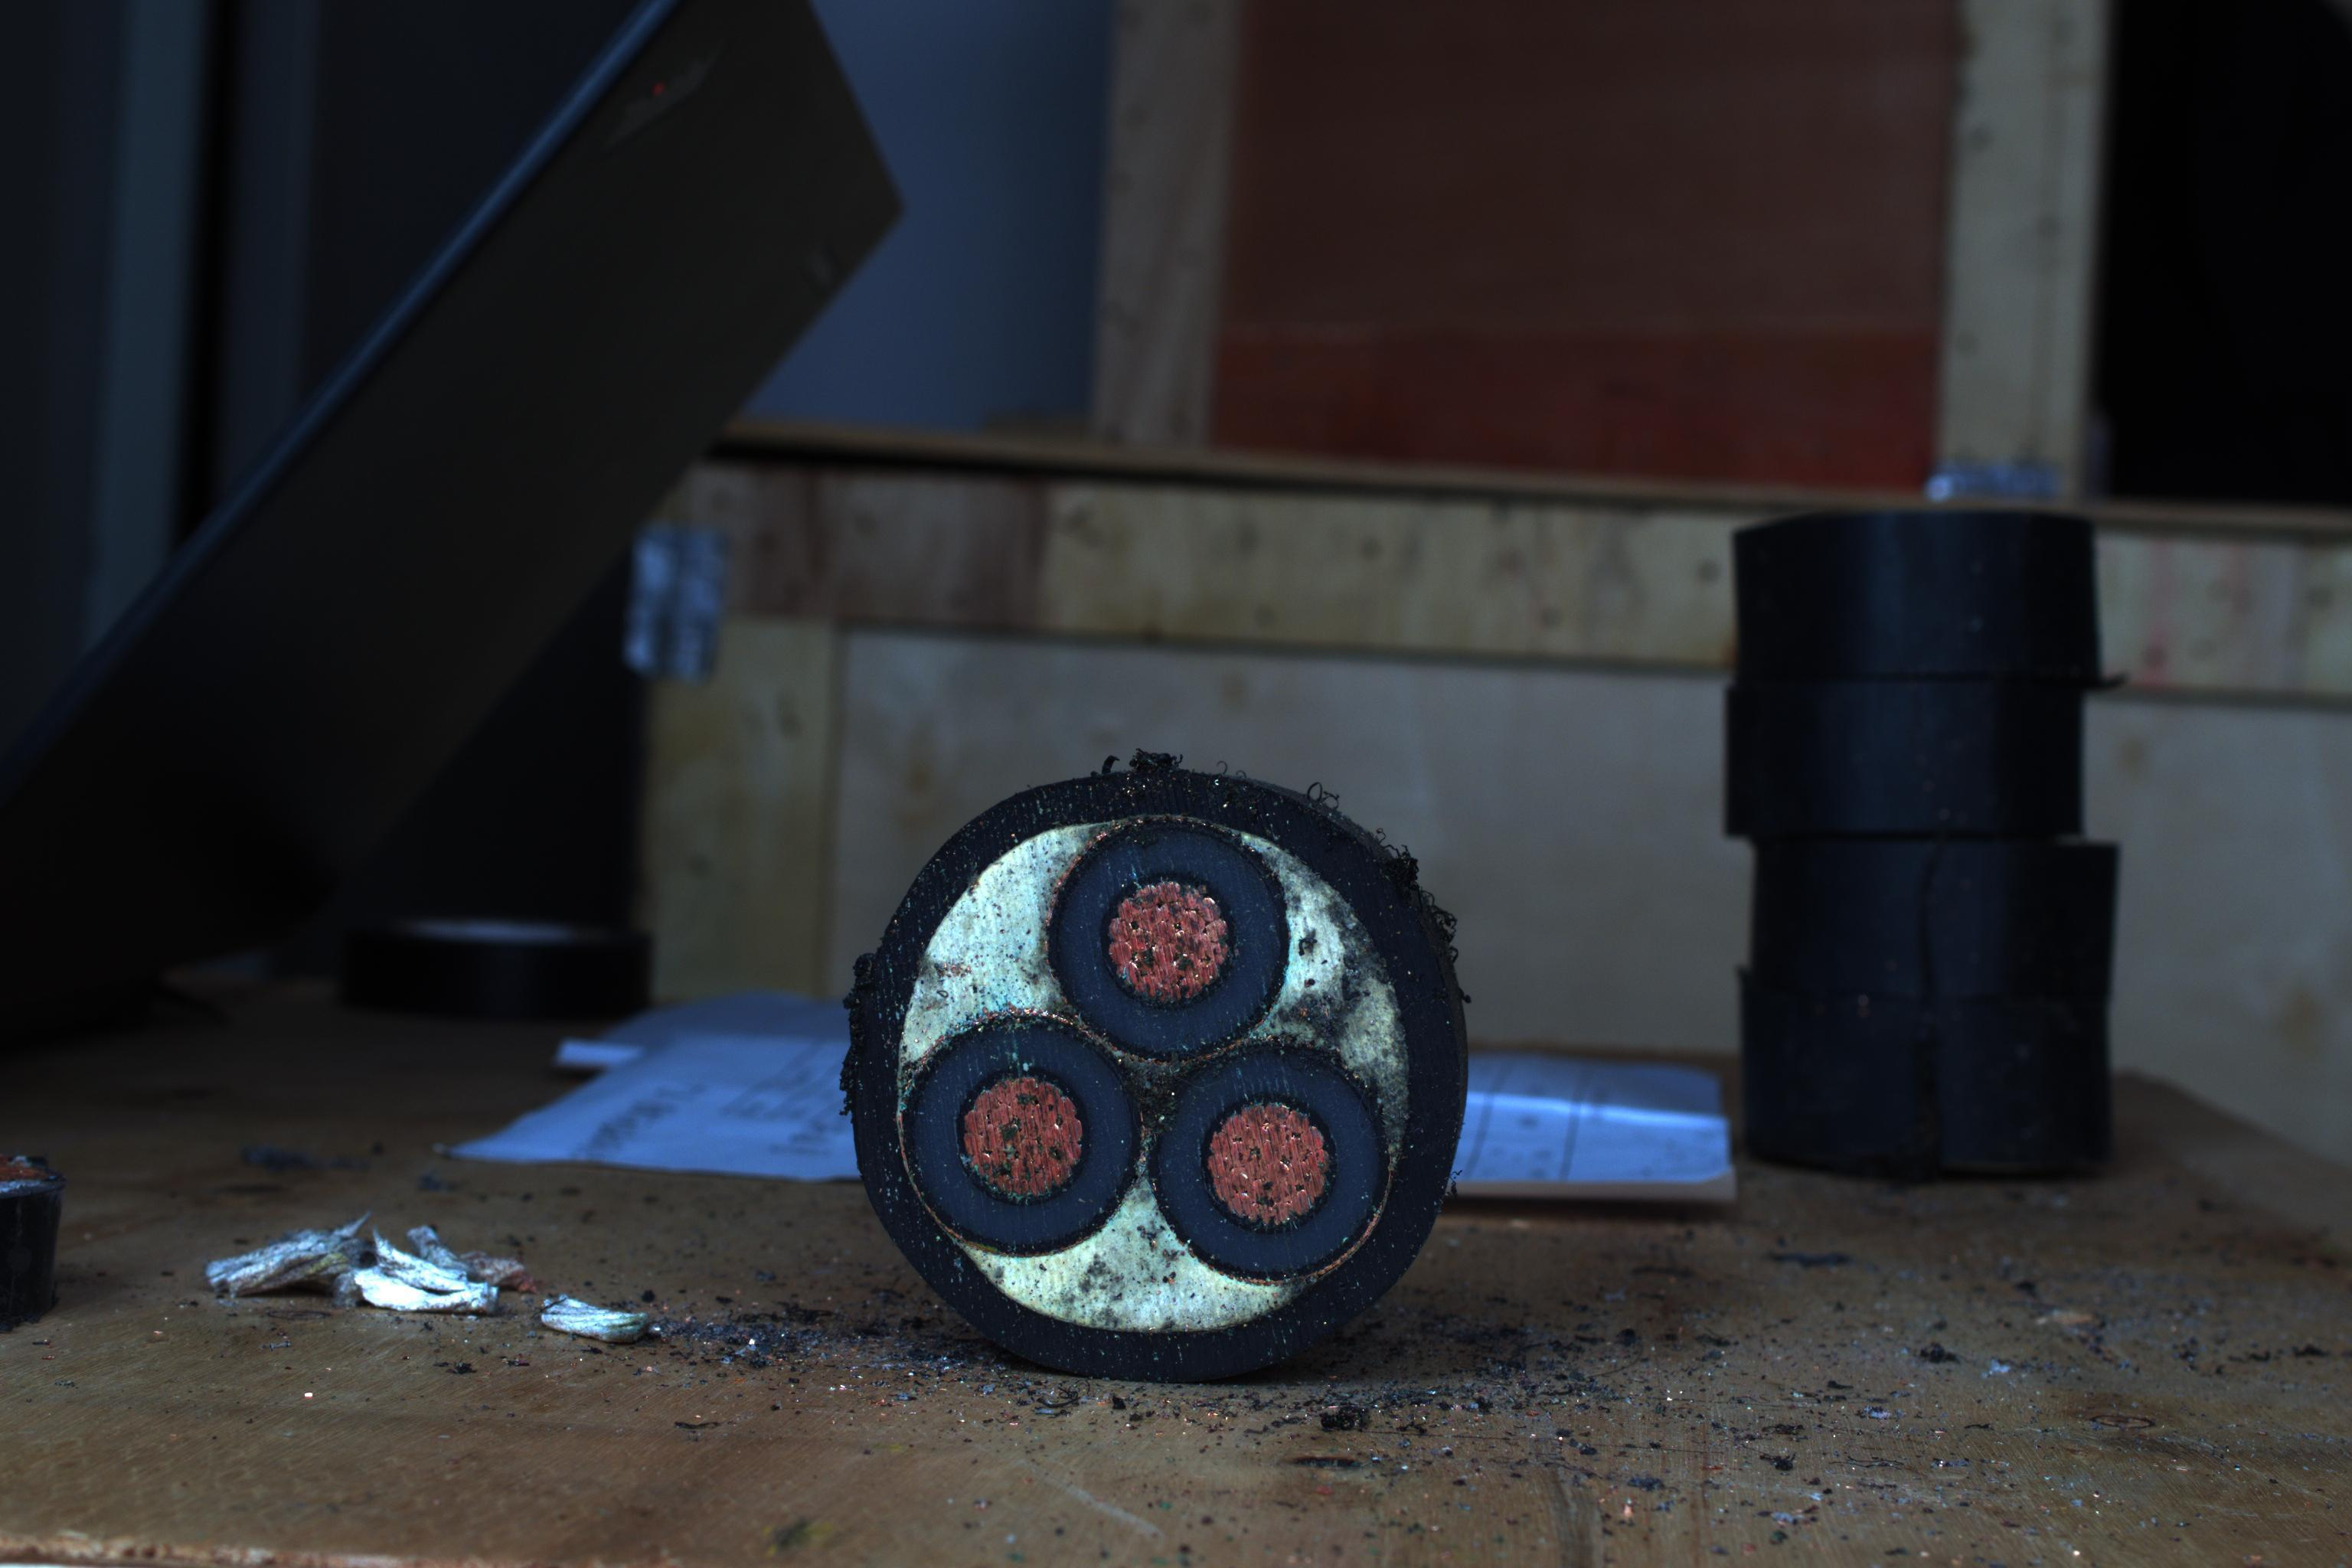ZA_YJV_8.7_10kV_3x120: (828, 770, 1430, 1372)
